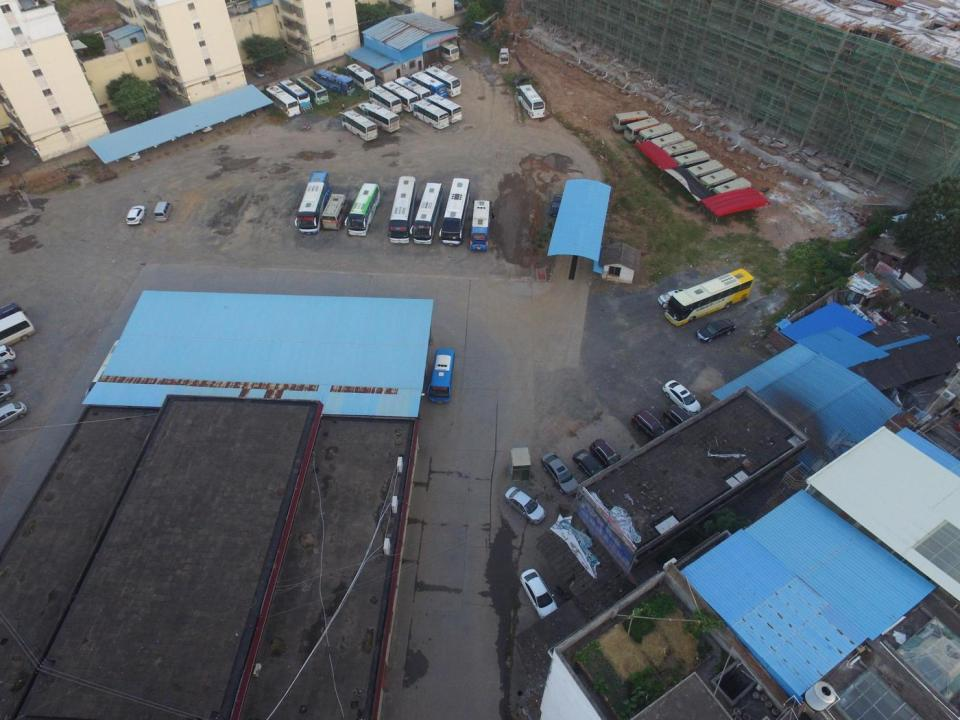bus: (662, 268, 755, 327), (294, 170, 331, 234), (409, 182, 444, 245), (438, 178, 470, 246), (387, 176, 417, 244), (344, 183, 381, 237), (426, 348, 454, 404), (0, 309, 37, 348), (422, 65, 462, 98), (409, 98, 450, 130), (708, 177, 753, 206), (338, 109, 378, 141), (423, 92, 463, 124), (468, 199, 492, 252), (265, 84, 301, 118), (362, 102, 402, 132), (313, 69, 357, 96), (366, 84, 403, 116), (382, 80, 419, 112), (409, 71, 447, 102), (296, 74, 331, 106), (394, 75, 431, 105), (278, 79, 311, 112), (698, 168, 738, 195), (321, 193, 349, 231), (658, 140, 698, 166), (670, 150, 710, 176), (516, 84, 545, 119), (645, 131, 685, 156), (635, 123, 673, 149), (685, 159, 724, 184), (612, 110, 654, 133), (344, 62, 376, 92), (623, 117, 663, 141), (430, 37, 460, 62)
car: (519, 568, 559, 620), (504, 485, 547, 524), (541, 452, 580, 494), (662, 379, 701, 415), (571, 448, 606, 483), (696, 317, 736, 343), (0, 400, 28, 428), (657, 287, 688, 309), (0, 302, 26, 323), (549, 193, 566, 218), (126, 205, 147, 225), (0, 359, 18, 380), (0, 344, 16, 365), (510, 74, 534, 86), (247, 64, 265, 78), (357, 101, 375, 113), (126, 147, 140, 162), (199, 120, 213, 134)
truck: (498, 47, 510, 66)
van: (588, 438, 624, 471), (631, 410, 666, 442), (662, 403, 696, 431), (153, 201, 173, 222)
